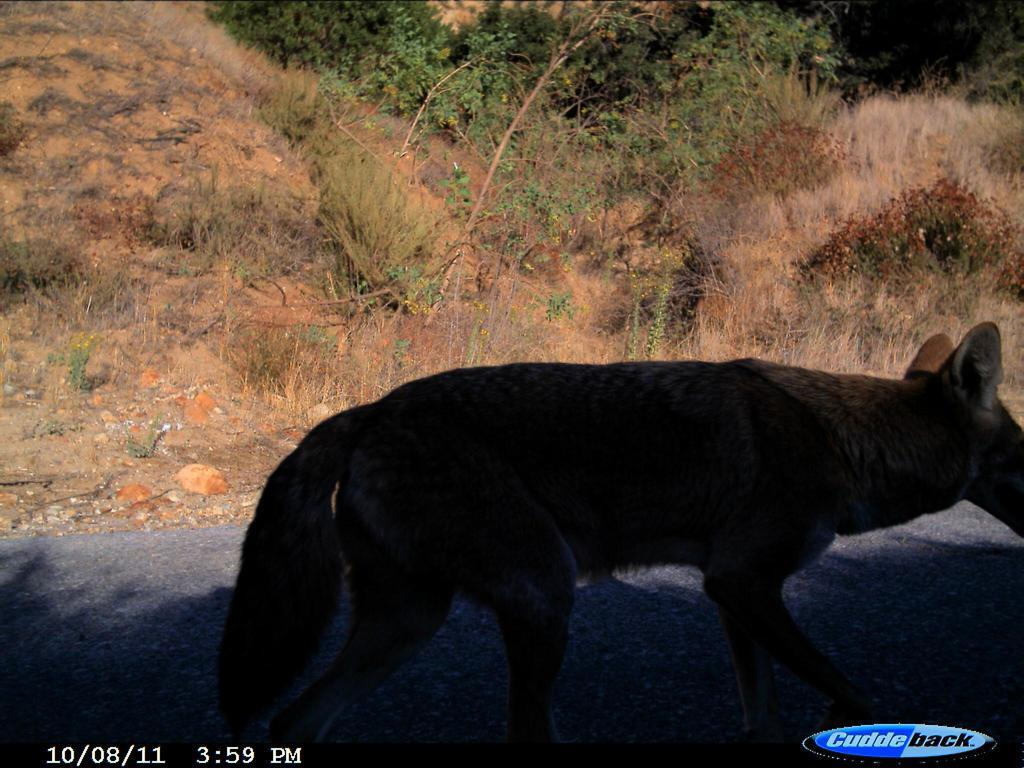coyote: (205, 308, 1016, 740)
